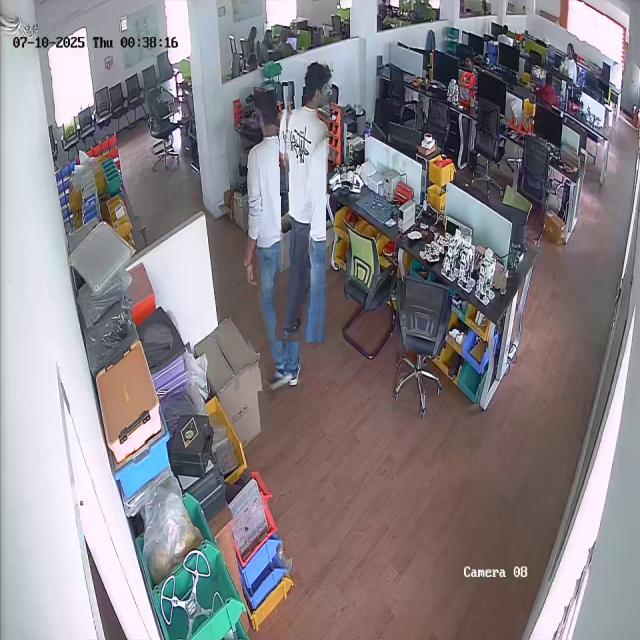person: (242, 87, 304, 391), (279, 61, 330, 342)
